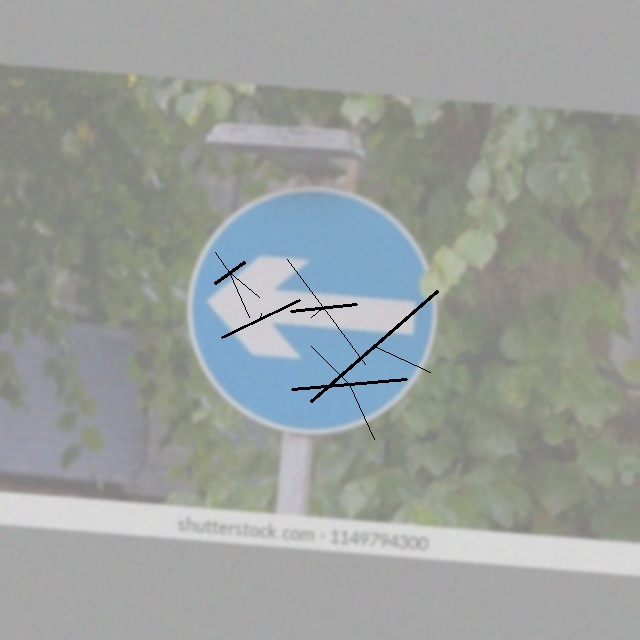Compulsory_Turn_Left: (182, 173, 444, 445)
